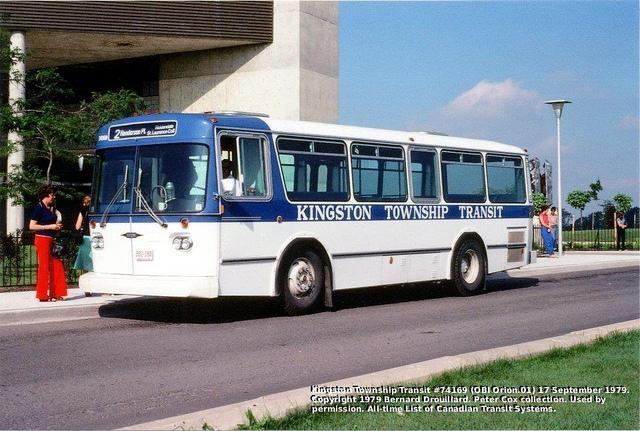bus: (72, 111, 530, 306)
